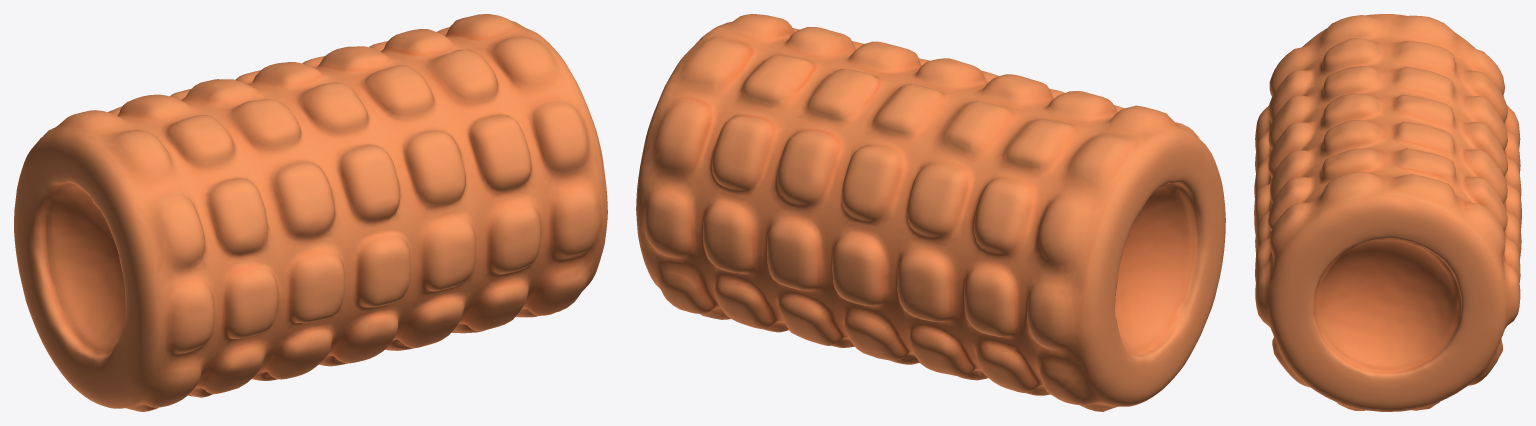
3 renders of one model, left to right at view 1: azimuth 30°, elevation 25°; view 2: azimuth 150°, elevation 25°; view 3: azimuth 270°, elevation 25°, orthographic. The views are drawn at different scales.
Parts seen in each view (by area): view 1: tripo_node_51dee7e3; view 2: tripo_node_51dee7e3; view 3: tripo_node_51dee7e3.
Part boxes in pixels (x1,y1,x2,y2): tripo_node_51dee7e3: (14,14,607,411); tripo_node_51dee7e3: (636,14,1225,411); tripo_node_51dee7e3: (1254,14,1521,411).
Size of the model in its own units: 99.95 by 56.82 by 59.31.
Materials: 1 (1 with a texture image).
